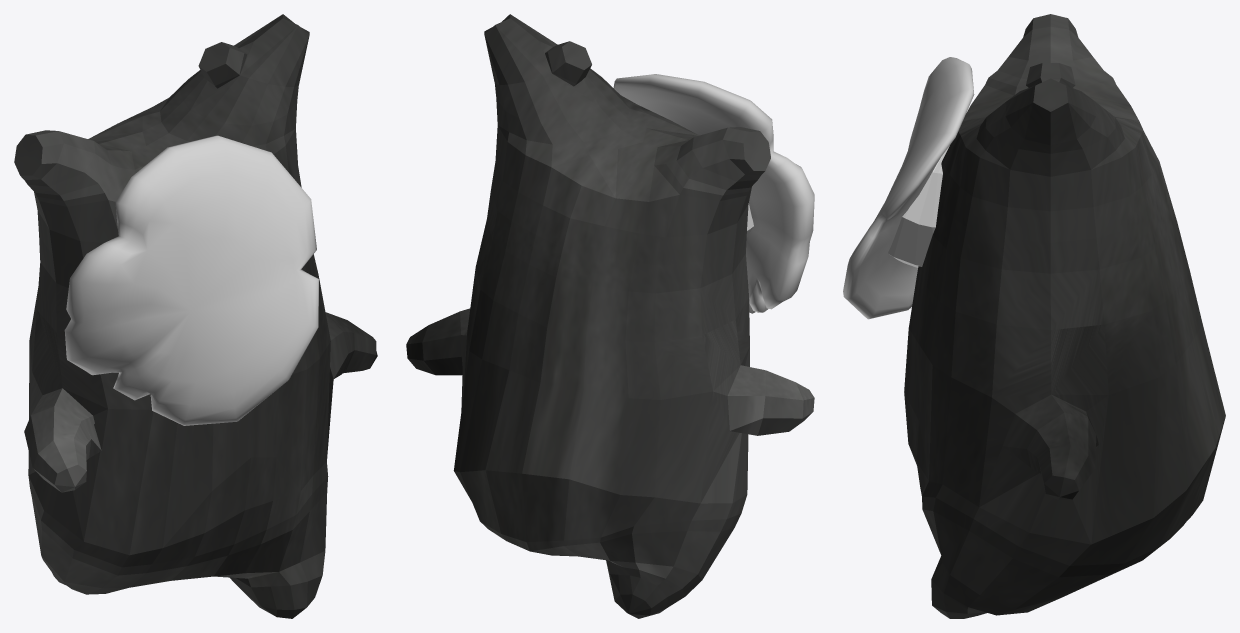
Rendered from frame_0006.obj.
3 renders of one model, left to right at view 1: azimuth 30°, elevation 25°; view 2: azimuth 150°, elevation 25°; view 3: azimuth 270°, elevation 25°, orthographic. The views are drawn at different scales.
Visible parts, largest first — view 1: korok, leaf; view 2: korok, leaf; view 3: korok, leaf, nose.
Boxes of the visible parts, bbox=[...] form: korok: bbox=[14, 14, 377, 618]; leaf: bbox=[64, 135, 318, 425]; korok: bbox=[406, 14, 814, 618]; leaf: bbox=[613, 74, 814, 313]; korok: bbox=[904, 14, 1225, 618]; leaf: bbox=[843, 57, 974, 319]; nose: bbox=[888, 146, 949, 267].
Bounding box in the file's own units: 1.57 × 2.22 × 1.38.
